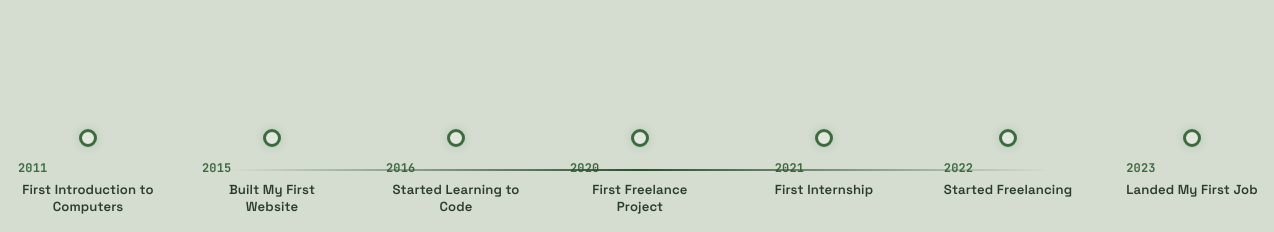
it: JourneyTimeline › shows description on click (mobile-friendly interaction)
This screenshot has width=1274, height=232.
Click the button "2011 First Introduction to Computers" at (88, 190), box [18, 129, 154, 215]
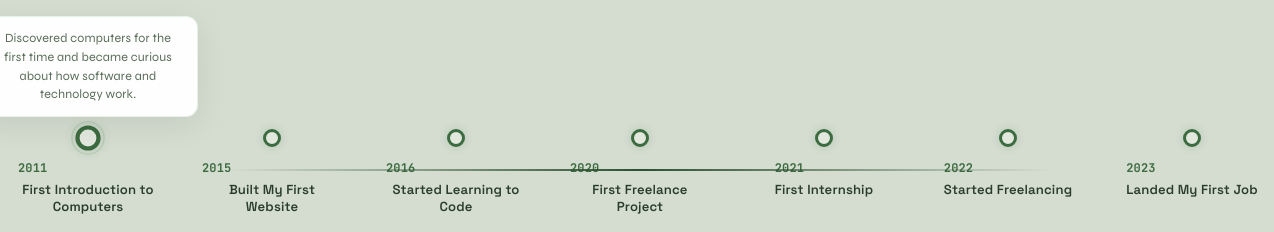
Check: the text "Discovered computers for the first time and became curious about how software and technology work." is shown, box [4, 30, 172, 101]
